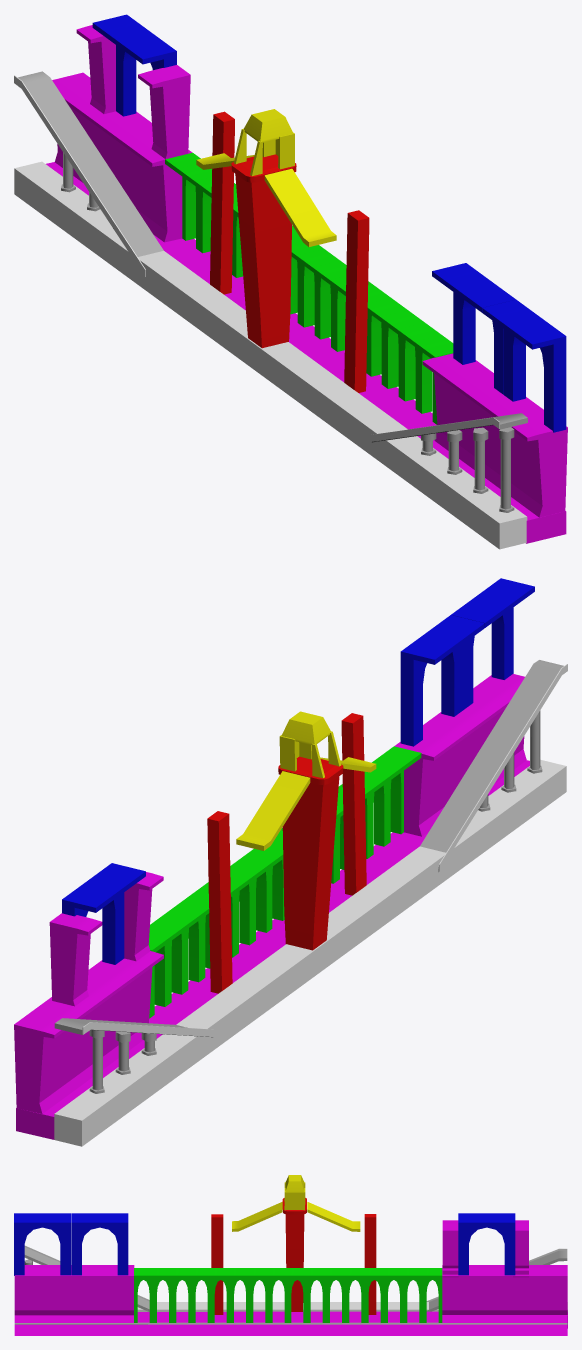
Rendered from lift_3_new_static.fbx.
3 renders of one model, top to bottom at view 1: azimuth 30°, elevation 25°; view 2: azimuth 150°, elevation 25°; view 3: azimuth 270°, elevation 25°, orthographic. The views are drawn at different scales.
Visible parts, largest first — view 1: polySurface2312; view 2: polySurface2312; view 3: polySurface2312.
Part boxes in pixels (bbox=[...]): polySurface2312: bbox=[14, 14, 567, 549]; polySurface2312: bbox=[14, 578, 567, 1146]; polySurface2312: bbox=[14, 1175, 567, 1335].
Size of the model in its own units: 114 by 328 by 1149.
